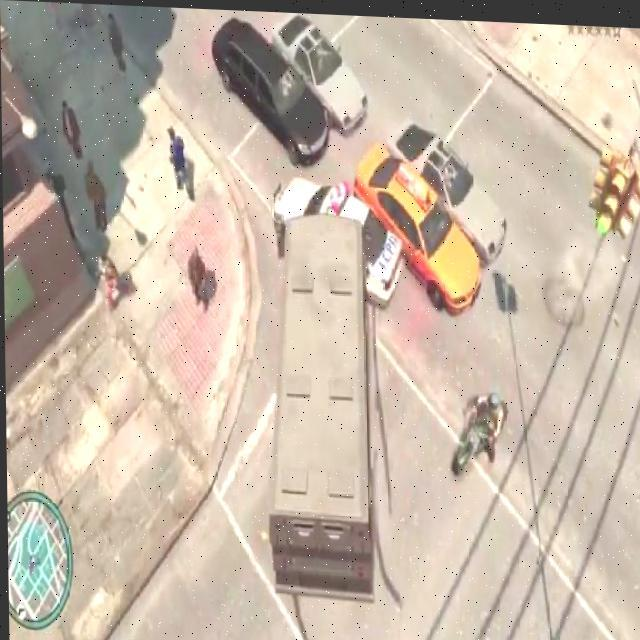multiple_accident: (203, 82, 557, 353)
normal: (188, 0, 390, 172), (433, 363, 563, 520)
